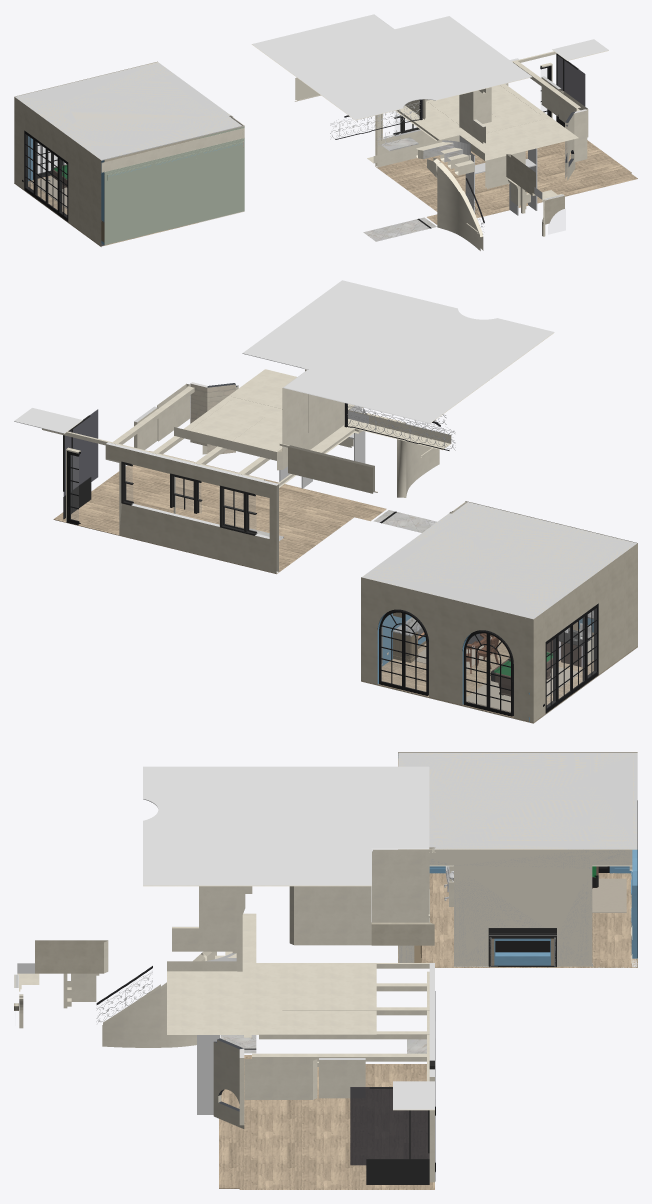
File: game-room-c3833a09197a.glb
The picture shows the model from 3 angles, top to bottom: view 1: azimuth 30°, elevation 25°; view 2: azimuth 150°, elevation 25°; view 3: azimuth 270°, elevation 25°; orthographic projection. The views are drawn at different scales.
Visible parts, largest first — view 1: game-room-look-9d91b47435c6fb33, game-room-4a969f5cc1ae3dfe, game-room-30c5953c9ad73e5d, game-room-look-3b0077416469e01b, game-room-look-2575515a05775d9e, game-room-039192b0560cfac3, game-room-50d54560d247b537, game-room-look-8c6a7019fd0063e7, game-room-2575515a05775d9e, game-room-f4800b31bfeb29e4, game-room-look-bfb9fa537cd11d1d, game-room-look-cbd4bf73d9724a66 (+20 smaller); view 2: game-room-look-9d91b47435c6fb33, game-room-4a969f5cc1ae3dfe, game-room-look-3b0077416469e01b, game-room-969b861f9850351e, game-room-look-bfb9fa537cd11d1d, game-room-039192b0560cfac3, game-room-look-2575515a05775d9e, game-room-50d54560d247b537, game-room-3b0077416469e01b, game-room-look-245f595ae2832e16, game-room-ebdc05650cf31826, game-room-ca241f91fd698c40 (+23 smaller); view 3: game-room-look-9d91b47435c6fb33, game-room-4a969f5cc1ae3dfe, game-room-look-3b0077416469e01b, game-room-3e6709f91b43c3bf, game-room-look-2575515a05775d9e, game-room-50d54560d247b537, game-room-look-69af8f587252f9fa, game-room-3b0077416469e01b, game-room-look-cbd4bf73d9724a66, game-room-look-32b959c9aa406288, game-room-look-8c6a7019fd0063e7, game-room-look-c51ecd664a3b22a3 (+22 smaller).
Boxes of the visible parts, x1=… form: game-room-look-9d91b47435c6fb33: x1=251, y1=14, x2=531, y2=120; game-room-4a969f5cc1ae3dfe: x1=14, y1=62, x2=242, y2=160; game-room-30c5953c9ad73e5d: x1=104, y1=126, x2=244, y2=245; game-room-look-3b0077416469e01b: x1=375, y1=140, x2=637, y2=224; game-room-look-2575515a05775d9e: x1=367, y1=84, x2=578, y2=163; game-room-039192b0560cfac3: x1=14, y1=97, x2=104, y2=246; game-room-50d54560d247b537: x1=14, y1=61, x2=243, y2=160; game-room-look-8c6a7019fd0063e7: x1=427, y1=157, x2=483, y2=250; game-room-2575515a05775d9e: x1=101, y1=128, x2=244, y2=172; game-room-f4800b31bfeb29e4: x1=24, y1=130, x2=68, y2=221; game-room-look-bfb9fa537cd11d1d: x1=375, y1=58, x2=518, y2=167; game-room-look-cbd4bf73d9724a66: x1=557, y1=55, x2=585, y2=106; game-room-look-9d91b47435c6fb33: x1=242, y1=280, x2=554, y2=423; game-room-4a969f5cc1ae3dfe: x1=361, y1=502, x2=637, y2=619; game-room-look-3b0077416469e01b: x1=53, y1=451, x2=386, y2=574; game-room-969b861f9850351e: x1=361, y1=578, x2=529, y2=721; game-room-look-bfb9fa537cd11d1d: x1=105, y1=442, x2=278, y2=573; game-room-039192b0560cfac3: x1=529, y1=544, x2=637, y2=722; game-room-look-2575515a05775d9e: x1=174, y1=369, x2=451, y2=460; game-room-50d54560d247b537: x1=361, y1=502, x2=637, y2=619; game-room-3b0077416469e01b: x1=361, y1=636, x2=637, y2=722; game-room-look-245f595ae2832e16: x1=288, y1=445, x2=374, y2=493; game-room-ebdc05650cf31826: x1=487, y1=632, x2=512, y2=716; game-room-ca241f91fd698c40: x1=403, y1=612, x2=427, y2=695; game-room-look-9d91b47435c6fb33: x1=143, y1=766, x2=429, y2=886; game-room-4a969f5cc1ae3dfe: x1=398, y1=752, x2=637, y2=849; game-room-look-3b0077416469e01b: x1=219, y1=1055, x2=434, y2=1189; game-room-3e6709f91b43c3bf: x1=398, y1=849, x2=632, y2=966; game-room-look-2575515a05775d9e: x1=167, y1=913, x2=376, y2=1034; game-room-50d54560d247b537: x1=398, y1=752, x2=637, y2=849; game-room-look-69af8f587252f9fa: x1=289, y1=886, x2=371, y2=945; game-room-3b0077416469e01b: x1=398, y1=873, x2=637, y2=967; game-room-look-cbd4bf73d9724a66: x1=350, y1=1087, x2=429, y2=1165; game-room-look-32b959c9aa406288: x1=372, y1=849, x2=429, y2=922; game-room-look-8c6a7019fd0063e7: x1=102, y1=951, x2=216, y2=1047; game-room-look-c51ecd664a3b22a3: x1=172, y1=886, x2=236, y2=951.
Bounding box in the file's own units: 21.68 × 6.36 × 16.78.
72 materials, 18 textured.
